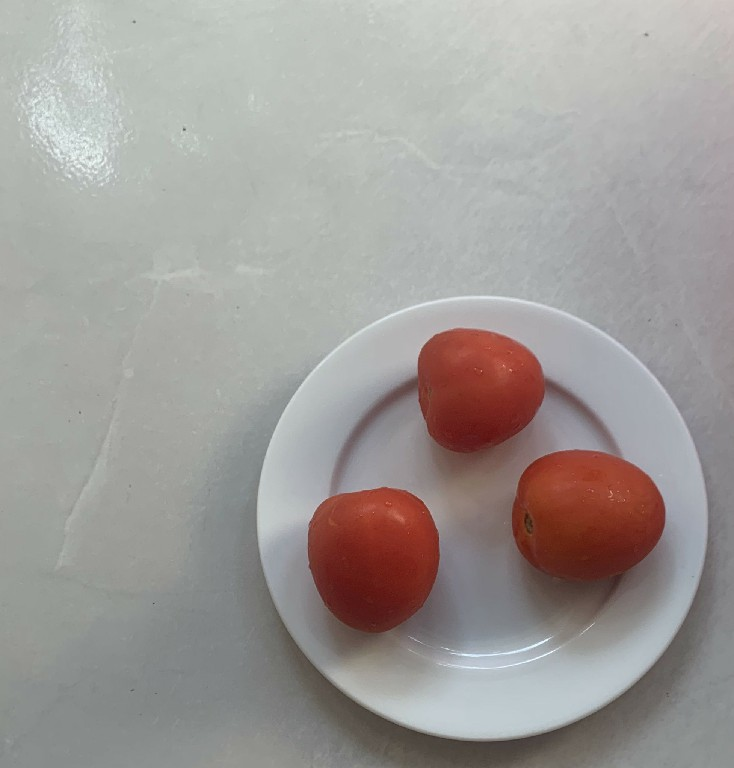OK: (297, 480, 454, 644), (500, 447, 666, 581), (411, 321, 550, 453)
